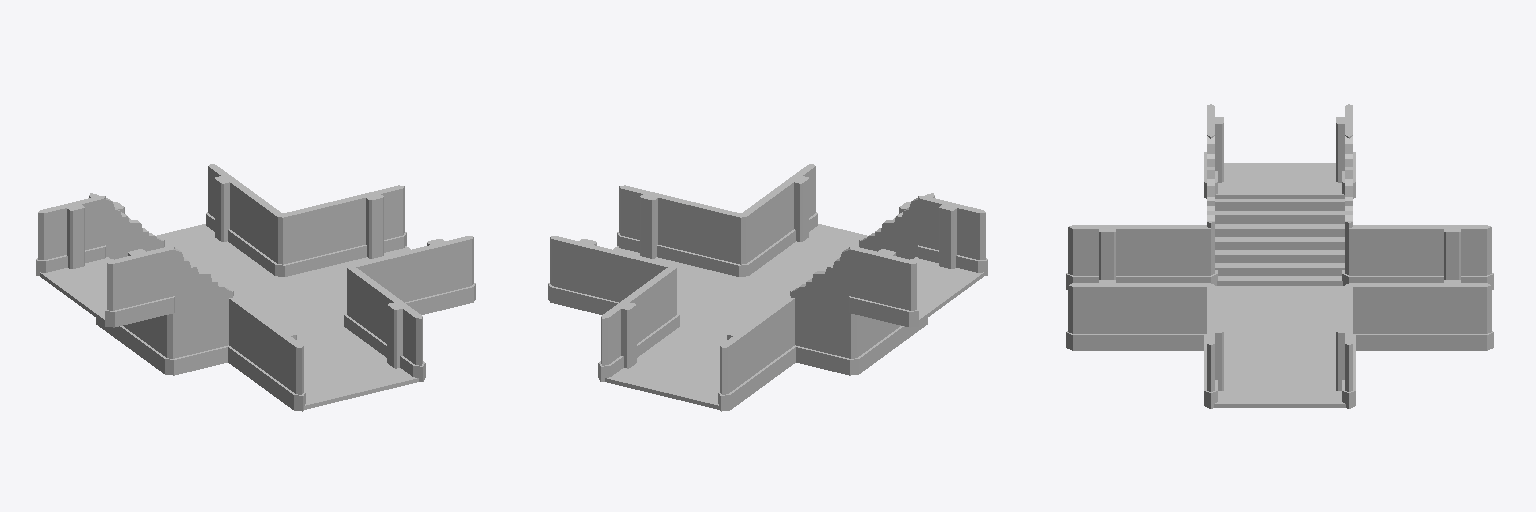
Rendered from intersection_4way_stair_02.obj.
3 renders of one model, left to right at view 1: azimuth 30°, elevation 25°; view 2: azimuth 150°, elevation 25°; view 3: azimuth 270°, elevation 25°, orthographic.
Parts seen in each view (by area): view 1: stairs_01_104, floor_01_100, wall_02_114, wall_02_117, wall_02_126, wall_02_125, wall_01_123, floor_01_73, floor_01_99, wall_02_116, wall_02_112, wall_01_110 (+6 smaller); view 2: stairs_01_104, floor_01_99, wall_02_117, wall_02_114, wall_02_125, wall_01_122, wall_02_126, floor_01_73, floor_01_100, wall_02_115, wall_02_111, wall_02_112 (+6 smaller); view 3: stairs_01_104, floor_01_73, floor_01_124, wall_02_111, wall_02_112, wall_01_110, wall_01_109, wall_02_115, wall_02_116, floor_04_106, wall_01_107, wall_01_108 (+4 smaller).
Part boxes in pixels (bbox=[...]): stairs_01_104: bbox=[96, 198, 233, 375]; floor_01_100: bbox=[297, 328, 418, 409]; wall_02_114: bbox=[105, 246, 174, 327]; wall_02_117: bbox=[36, 196, 105, 275]; wall_02_126: bbox=[407, 236, 475, 314]; wall_02_125: bbox=[340, 185, 406, 261]; wall_01_123: bbox=[275, 200, 344, 276]; floor_01_73: bbox=[229, 277, 345, 339]; floor_01_99: bbox=[156, 224, 277, 288]; wall_02_116: bbox=[259, 320, 305, 411]; wall_02_112: bbox=[379, 291, 425, 381]; wall_01_110: bbox=[241, 189, 285, 276]; stairs_01_104: bbox=[790, 198, 927, 375]; floor_01_99: bbox=[605, 325, 726, 409]; wall_02_117: bbox=[849, 246, 918, 327]; wall_02_114: bbox=[918, 196, 987, 275]; wall_02_125: bbox=[548, 236, 616, 314]; wall_01_122: bbox=[679, 200, 748, 276]; wall_02_126: bbox=[617, 185, 685, 261]; floor_01_73: bbox=[678, 276, 791, 339]; floor_01_100: bbox=[747, 224, 867, 288]; wall_02_115: bbox=[718, 320, 764, 411]; wall_02_111: bbox=[598, 291, 644, 381]; wall_02_112: bbox=[774, 164, 817, 250]; stairs_01_104: bbox=[1207, 134, 1352, 286]; floor_01_73: bbox=[1215, 286, 1344, 345]; floor_01_124: bbox=[1214, 344, 1345, 407]; wall_02_111: bbox=[1415, 280, 1493, 350]; wall_02_112: bbox=[1066, 280, 1142, 350]; wall_01_110: bbox=[1345, 283, 1421, 350]; wall_01_109: bbox=[1138, 283, 1214, 350]; wall_02_115: bbox=[1417, 225, 1493, 289]; wall_02_116: bbox=[1066, 225, 1144, 289]; floor_04_106: bbox=[1215, 163, 1344, 198]; wall_01_107: bbox=[1342, 225, 1420, 284]; wall_01_108: bbox=[1138, 225, 1217, 283].
Bounding box in the file's own units: 6.21 × 2 × 6.21.